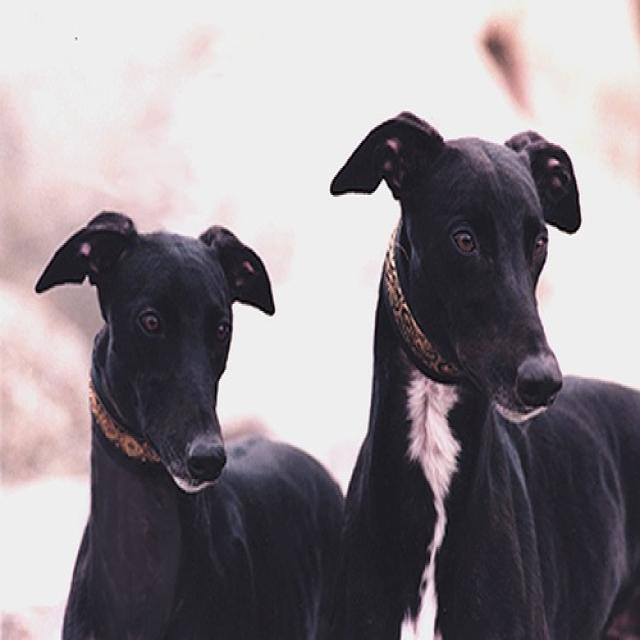dog: (330, 111, 639, 638), (33, 209, 346, 638)
